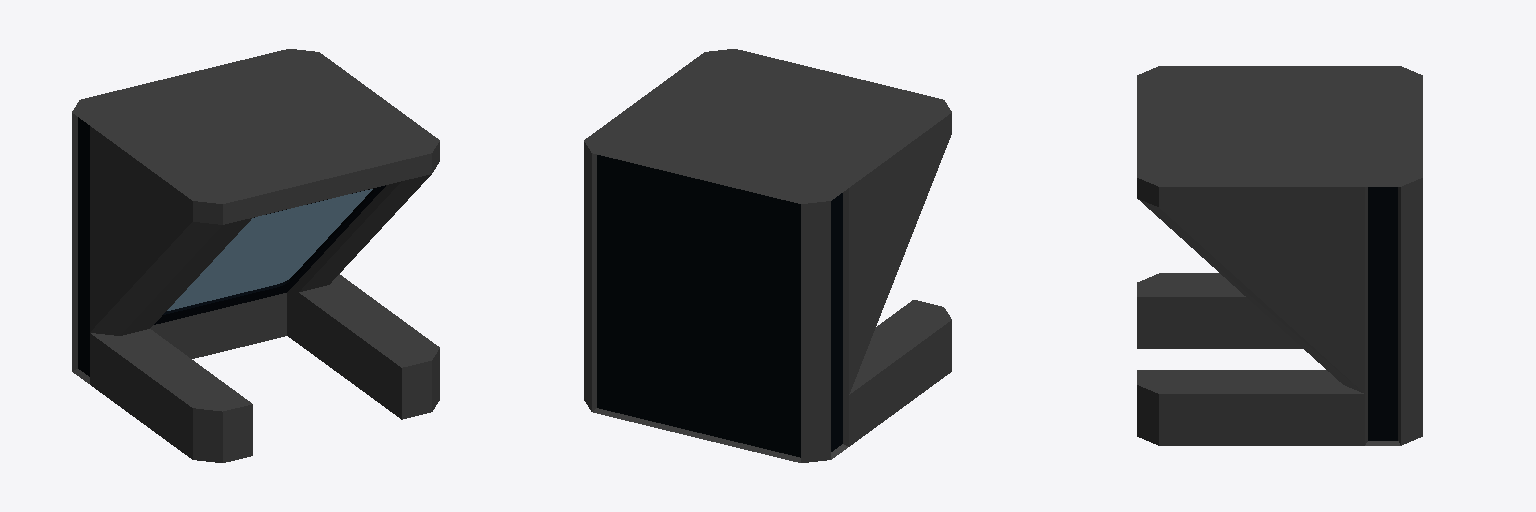
The model's file is periscope_stationary.obj.
The picture shows the model from 3 angles: view 1: azimuth 30°, elevation 25°; view 2: azimuth 150°, elevation 25°; view 3: azimuth 270°, elevation 25°; orthographic projection.
Visible parts, largest first — view 1: Cube.002; view 2: Cube.002; view 3: Cube.002.
Boxes of the visible parts, x1,y1,x2,y2 form: Cube.002: [72, 49, 439, 462]; Cube.002: [584, 49, 951, 462]; Cube.002: [1137, 66, 1422, 445].
Bounding box in the file's own units: 1 × 1 × 1.